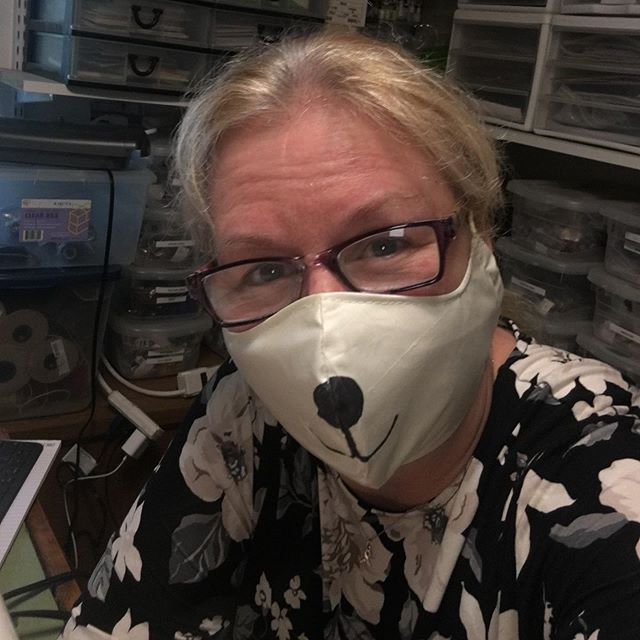homemade: (189, 279, 535, 489)
